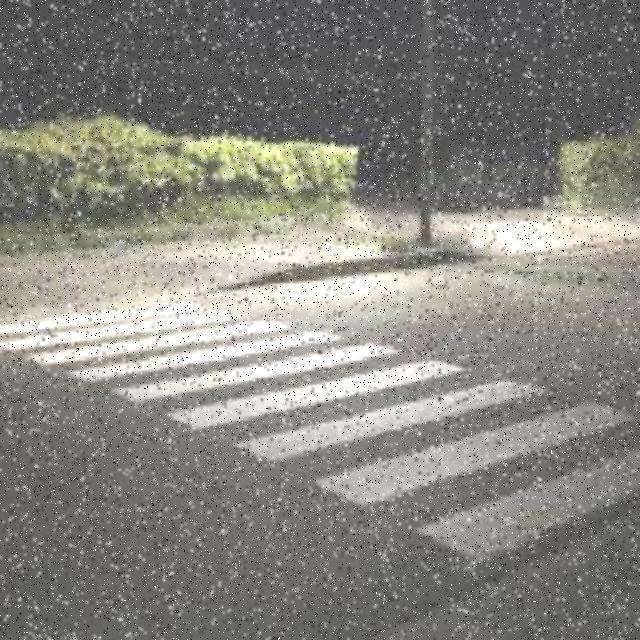crosswalk: (0, 294, 640, 571)
